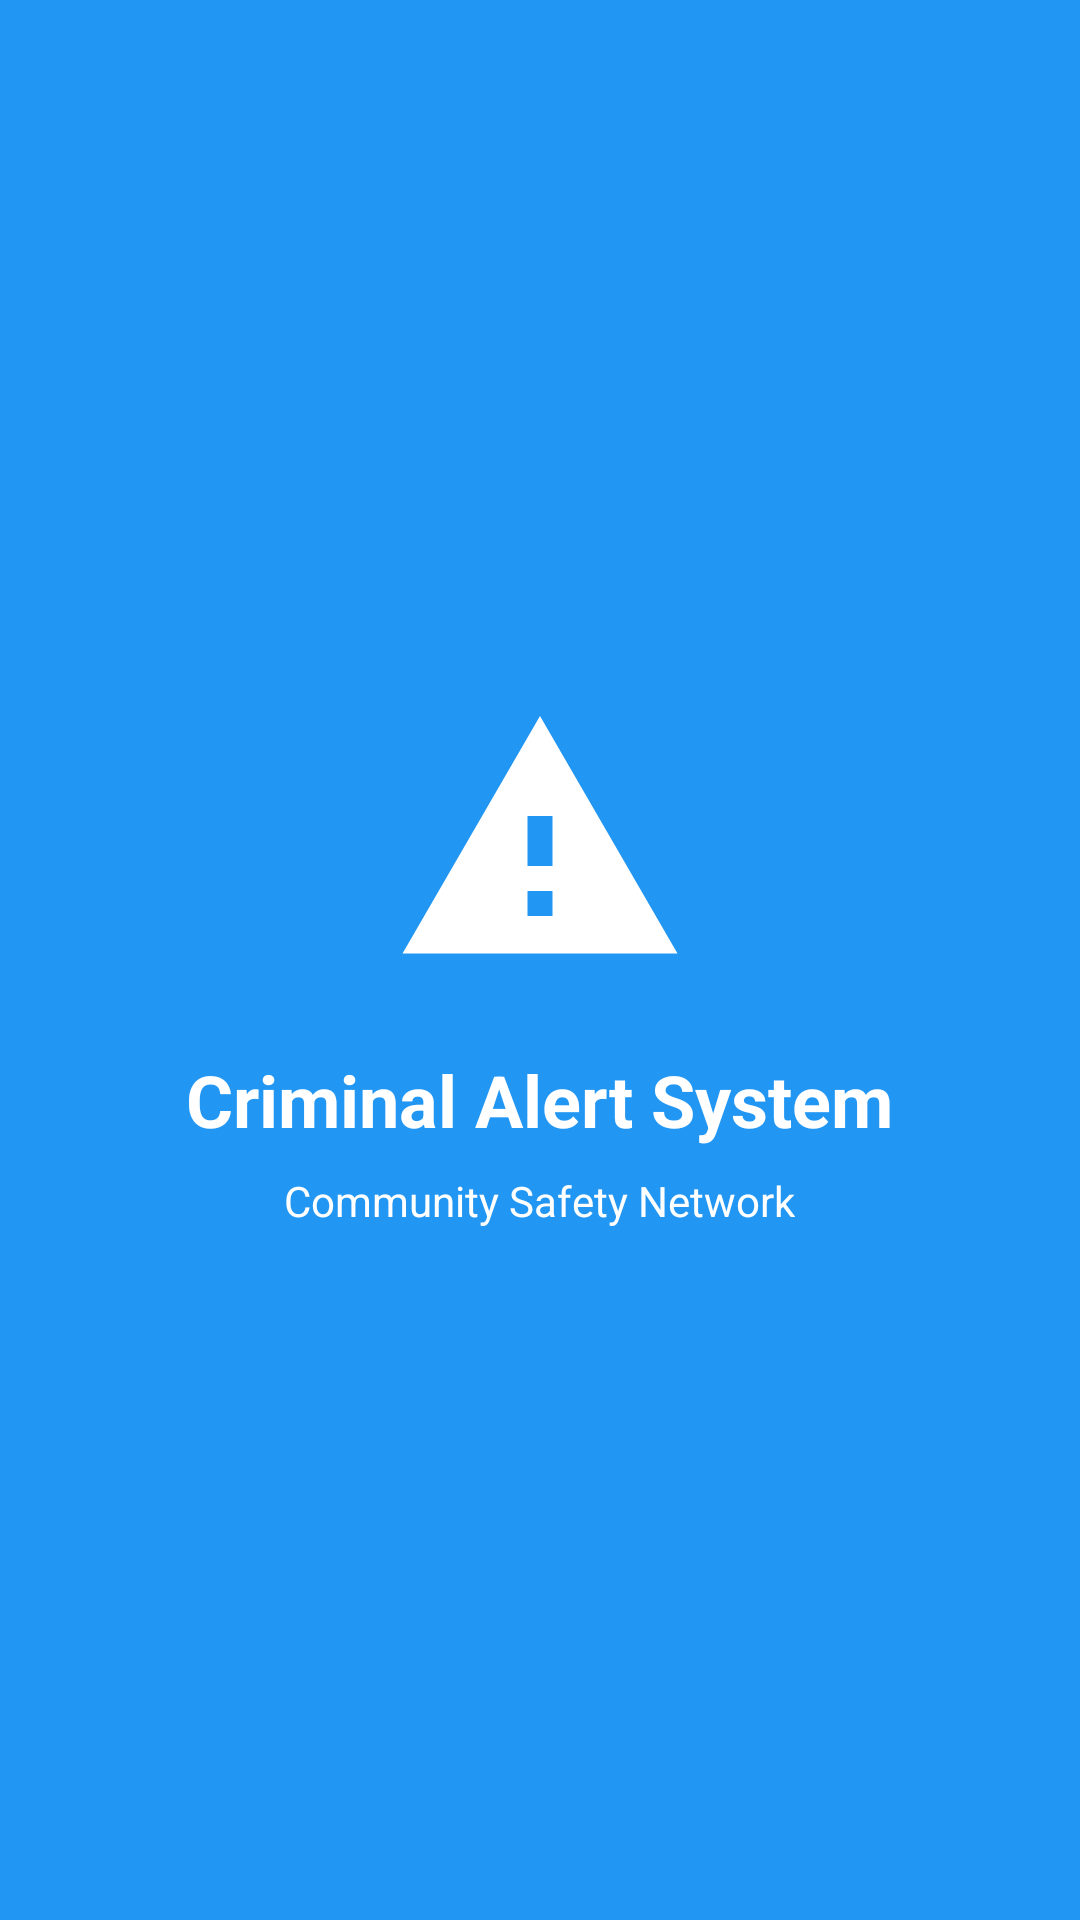

Icon click points for this 1080 x 1920 phone screenshot, format (x,y):
alert custom: (540,835)
